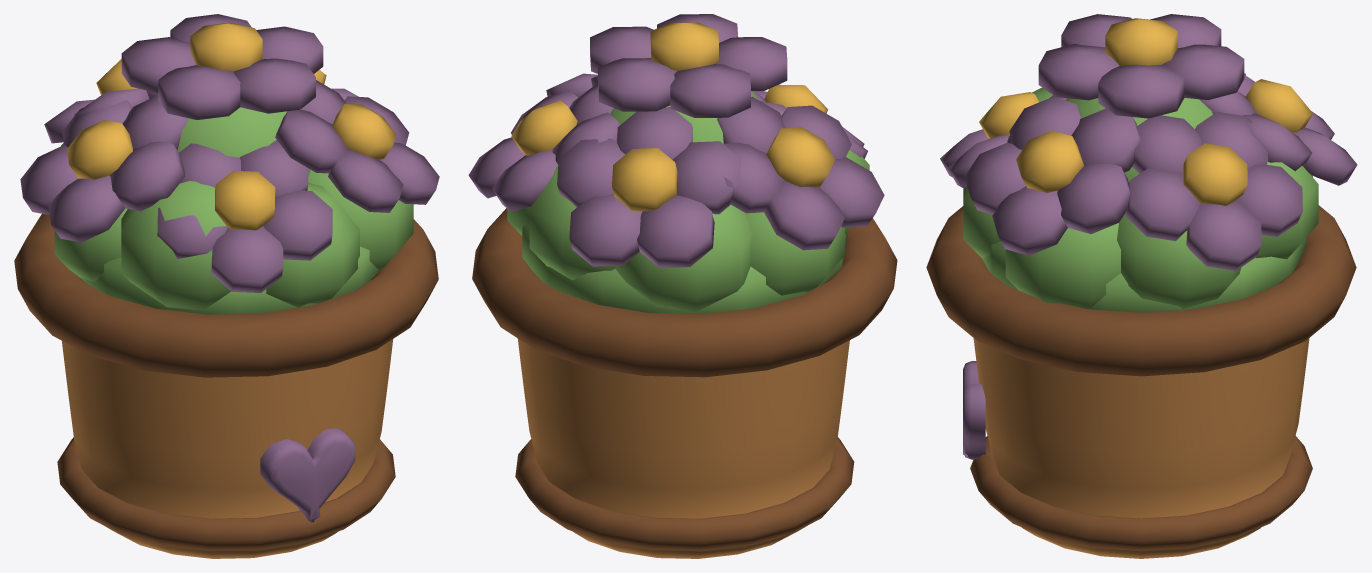
Rendered from ShopPlanter.fbx.
3 renders of one model, left to right at view 1: azimuth 30°, elevation 25°; view 2: azimuth 150°, elevation 25°; view 3: azimuth 270°, elevation 25°, orthographic.
Parts seen in each view (by area): view 1: ShopPlanter; view 2: ShopPlanter; view 3: ShopPlanter.
Boxes of the visible parts, box(x1,y1,x2,y2) form: ShopPlanter: box(14, 14, 439, 558); ShopPlanter: box(468, 14, 897, 558); ShopPlanter: box(926, 14, 1357, 558).
Size of the model in its own units: 0.66 by 0.8194 by 0.6615.
